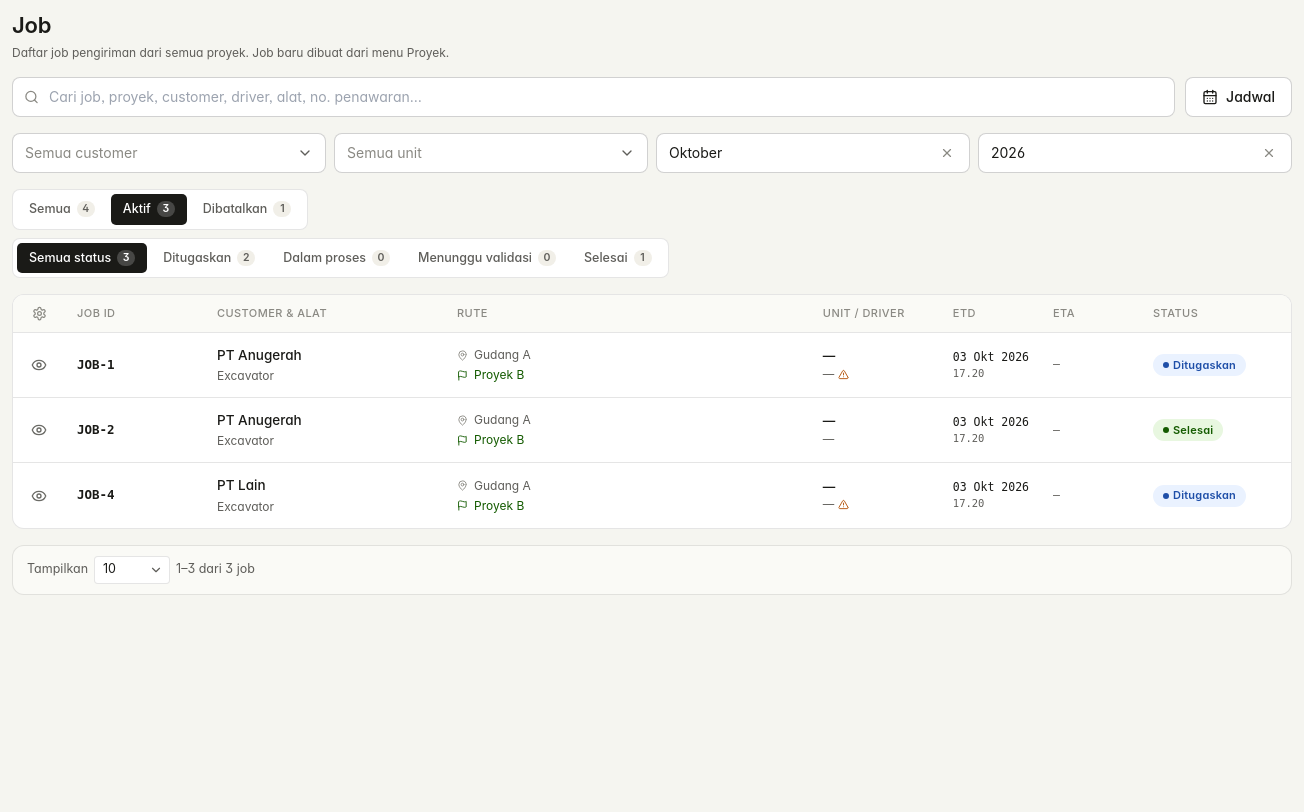
Test: daftar job › kelompok Semua: semua job tampil, filter tahap tidak muncul
This screenshot has width=1304, height=812.
Click the button "Semua 4". click: (62, 209)
box: x1=17 y1=194 x2=107 y2=225
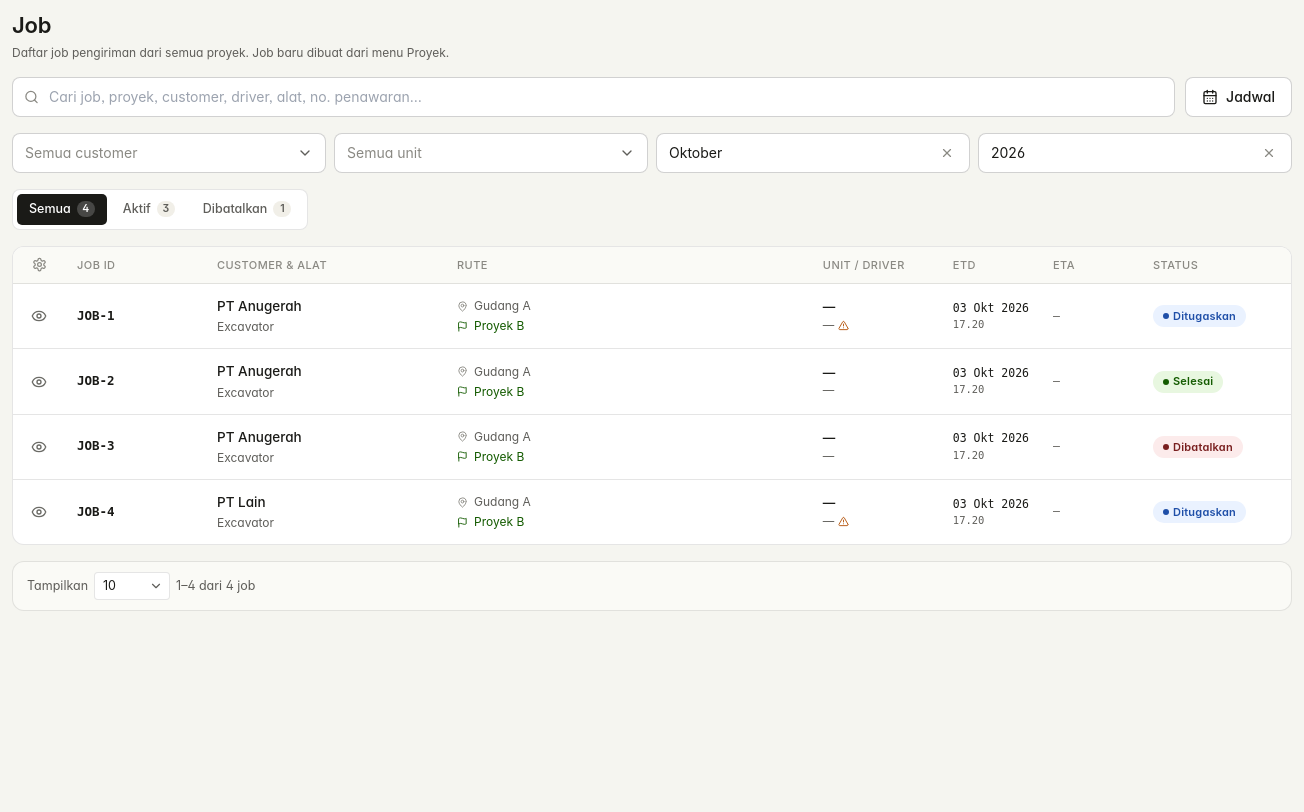
Expected: the text "JOB-3" is shown, x1=77 y1=438 x2=115 y2=453
Expected: the button "Semua status" is gone
Expected: the button "Dalam proses" is gone
